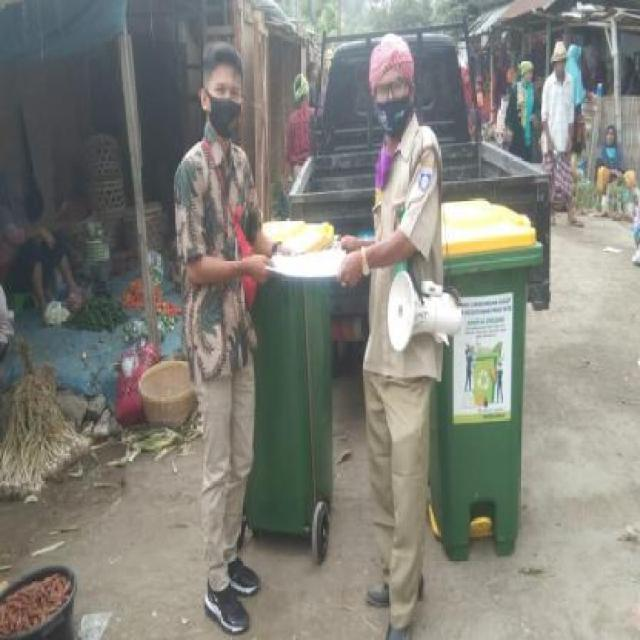garbage container: (421, 191, 544, 566), (238, 213, 338, 565)
